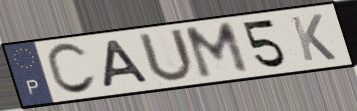5: (239, 18, 288, 70)
A: (102, 37, 153, 90)
C: (43, 41, 100, 97)
K: (287, 12, 339, 63)
M: (181, 19, 253, 82)
U: (135, 27, 196, 85)
